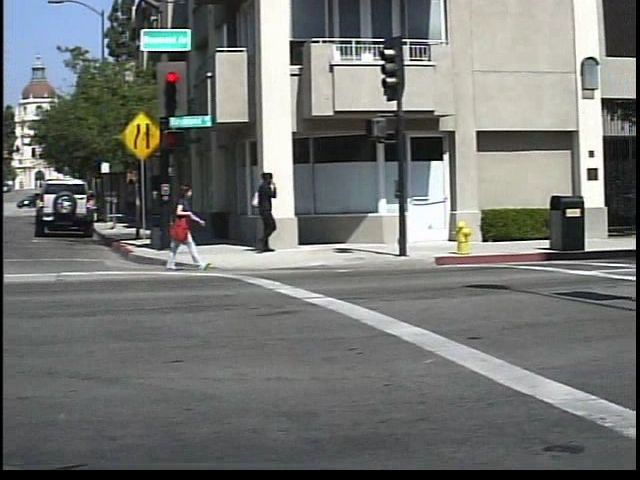person: (171, 182, 221, 273), (251, 169, 293, 255)
